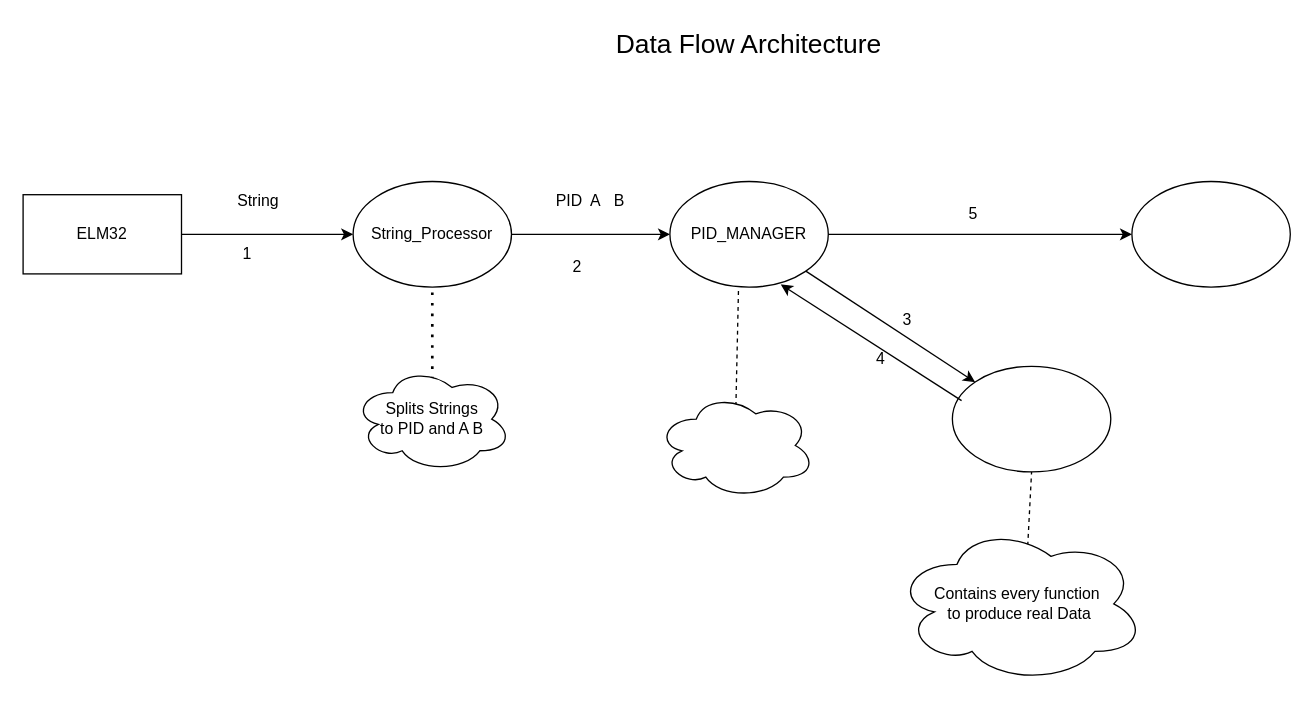
Image size: 1313x706. Some labels were removed from this diagram. The centre of each missing label's shape, as x and y in pixels:
Chooses witch correct functions based on PID: point 735,444
Parser: point 1031,418
User Interface: point 1210,233
